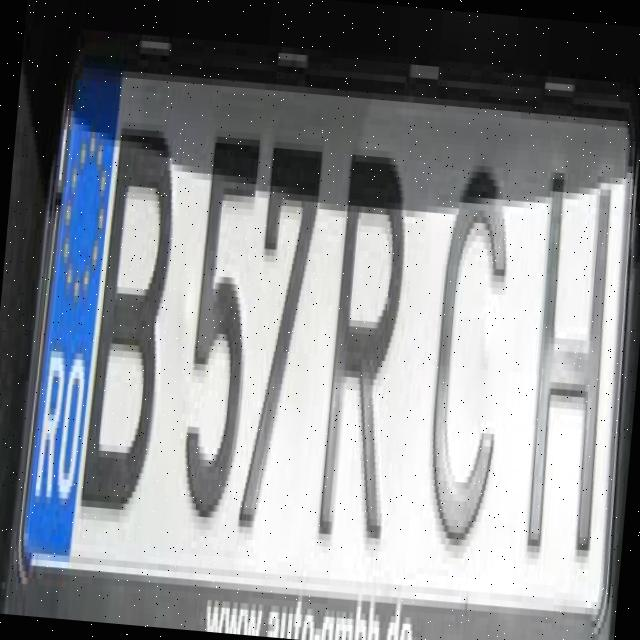EU: (16, 34, 640, 640)
Romanie: (23, 41, 116, 556)
